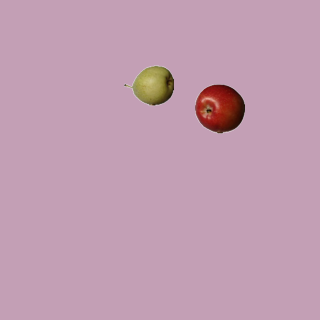Apple Braeburn: (194, 83, 244, 133)
Pear: (123, 60, 173, 110)
